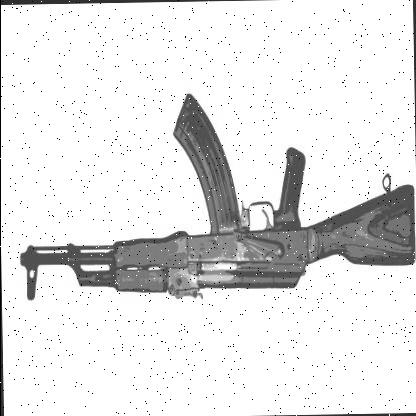rifle: (23, 81, 416, 327)
